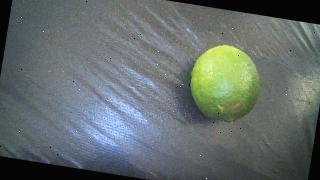DESECHO: (185, 41, 265, 126)
